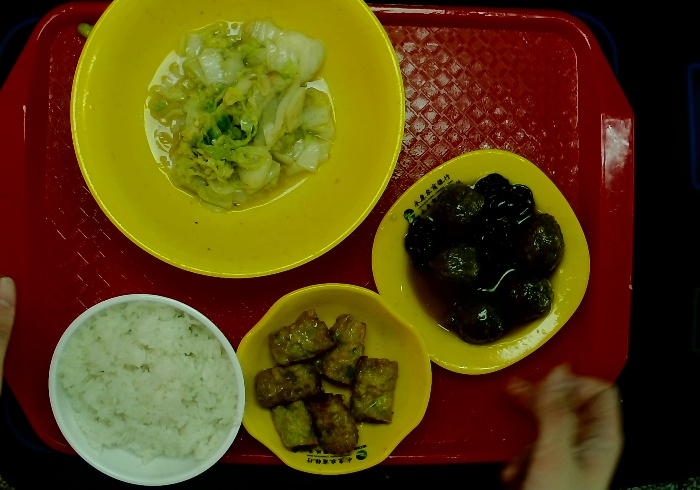YKMZ-Fan_Wan: (43, 293, 255, 490)
YKMZ-Huang_Se_Ao_Bian_Wan: (236, 281, 438, 480)
YKMZ-Huang_Se_Fang_Die: (365, 145, 593, 382)
YKMZ-Huang_Se_Tang_Wan: (65, 1, 407, 282)
